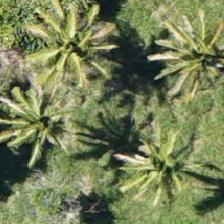coconut_tree: (124, 124, 214, 214), (135, 7, 223, 97), (14, 0, 104, 85), (0, 69, 78, 159)
